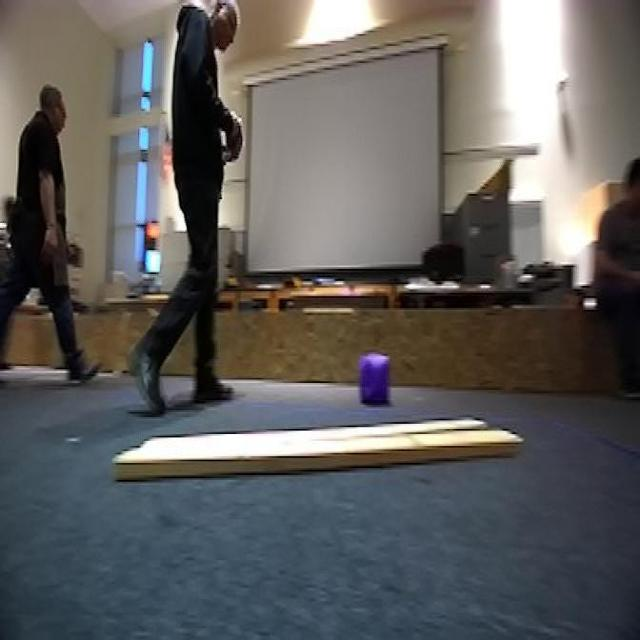frc_cube: (356, 356, 394, 405)
